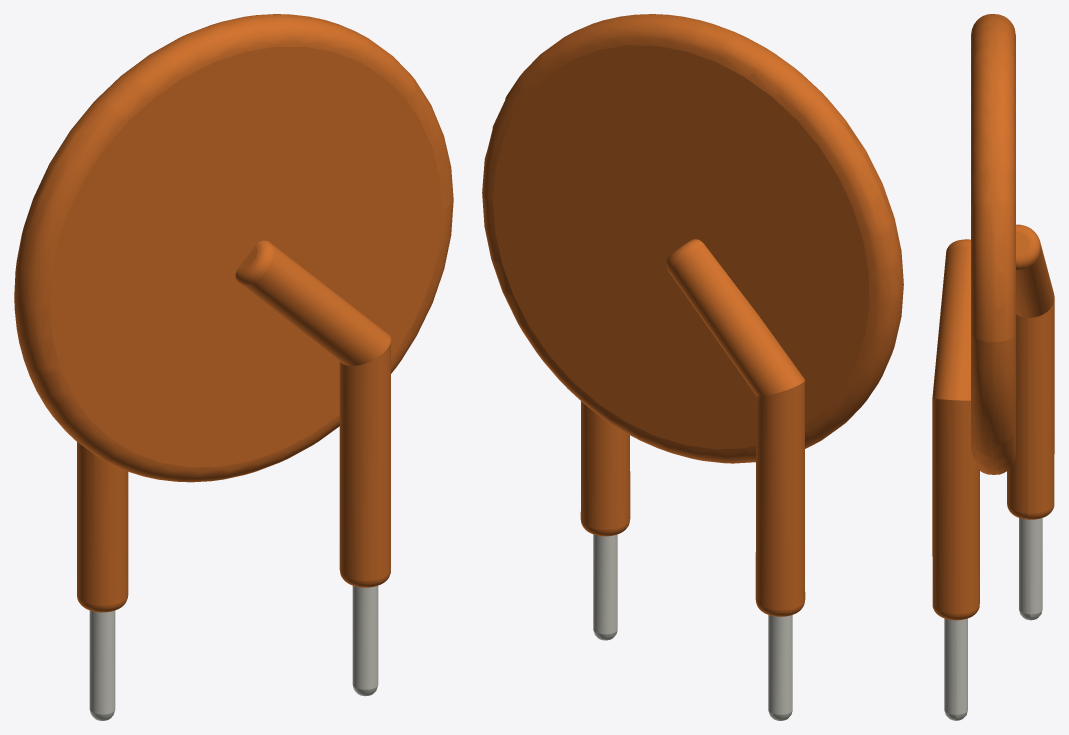
Rendered from kc-fuse_belfuse_0zre_0zre0016ff_l9.9mm_w3.8mm.glb.
3 renders of one model, left to right at view 1: azimuth 30°, elevation 25°; view 2: azimuth 150°, elevation 25°; view 3: azimuth 270°, elevation 25°, orthographic. The views are drawn at different scales.
Visible parts, largest first — view 1: 0.5833333333333334_0.16666666666666666_0_0, 0.6666666666666666_0.6666666666666666_0.5833333333333334_0.8; view 2: 0.5833333333333334_0.16666666666666666_0_0, 0.6666666666666666_0.6666666666666666_0.5833333333333334_0.8; view 3: 0.5833333333333334_0.16666666666666666_0_0, 0.6666666666666666_0.6666666666666666_0.5833333333333334_0.8.
Part boxes in pixels (x1=…): 0.5833333333333334_0.16666666666666666_0_0: x1=14, y1=14, x2=453, y2=612; 0.6666666666666666_0.6666666666666666_0.5833333333333334_0.8: x1=89, y1=586, x2=378, y2=720; 0.5833333333333334_0.16666666666666666_0_0: x1=482, y1=14, x2=903, y2=616; 0.6666666666666666_0.6666666666666666_0.5833333333333334_0.8: x1=593, y1=534, x2=792, y2=720; 0.5833333333333334_0.16666666666666666_0_0: x1=932, y1=14, x2=1054, y2=620; 0.6666666666666666_0.6666666666666666_0.5833333333333334_0.8: x1=944, y1=518, x2=1042, y2=720.
Size of the model in its own units: 0.99 by 1.5 by 0.2619.
